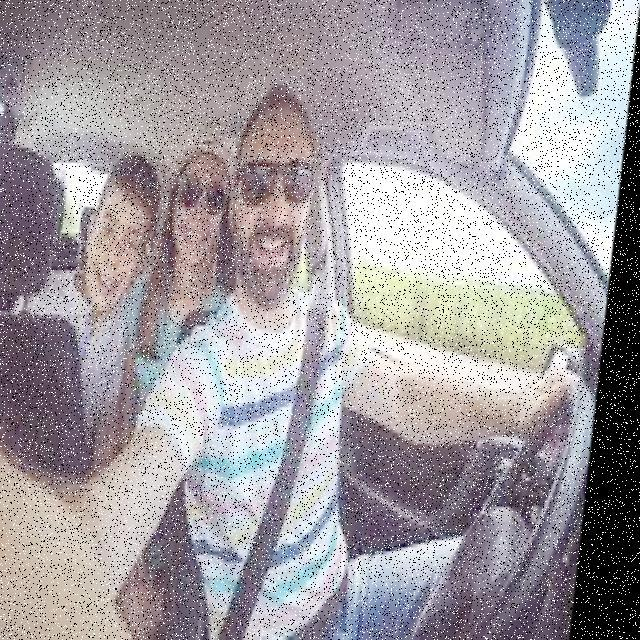seatbelt: (199, 285, 377, 640)
